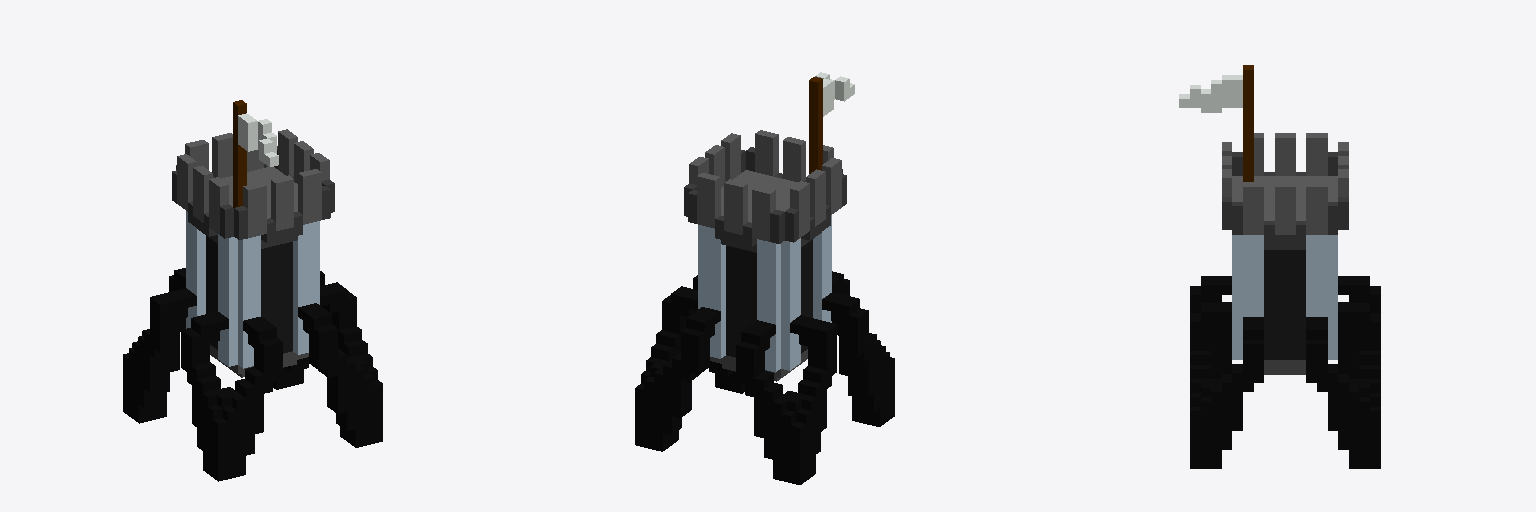
3 views of the same model, side by side, from view 1: azimuth 30°, elevation 25°; view 2: azimuth 150°, elevation 25°; view 3: azimuth 270°, elevation 25° (orthographic).
Size of the model in its own units: 18 by 36 by 19.
Materials: 1 (1 with a texture image).